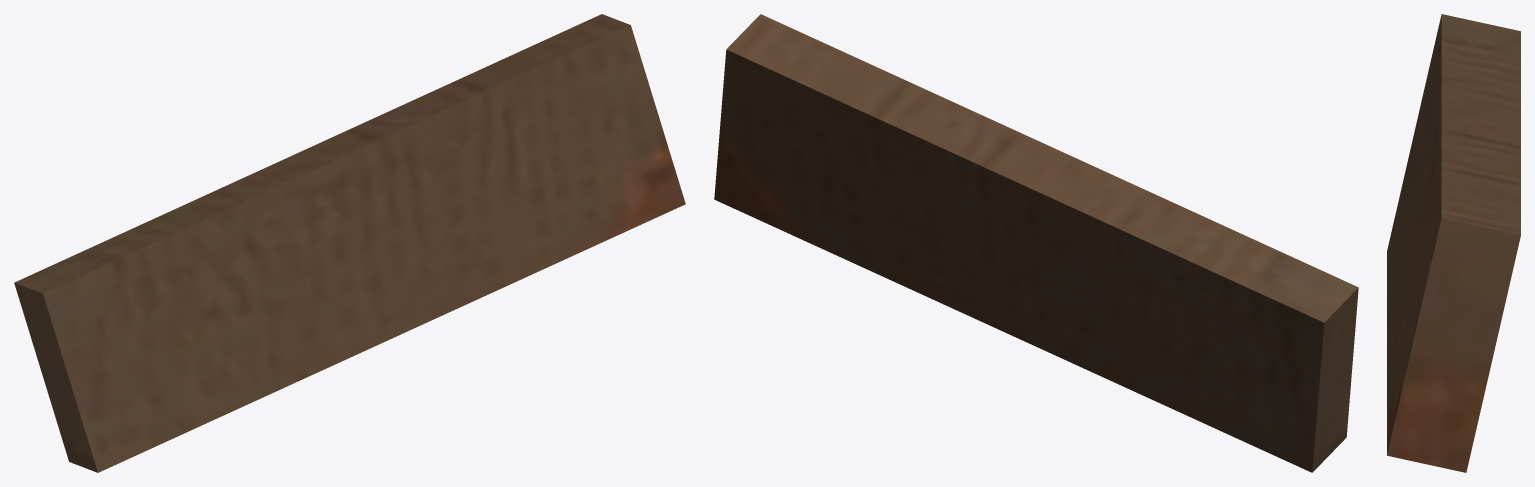
The model's file is fan_left__blade_4.glb.
The picture shows the model from 3 angles, left to right: view 1: azimuth 30°, elevation 25°; view 2: azimuth 150°, elevation 25°; view 3: azimuth 270°, elevation 25°; orthographic projection. The views are drawn at different scales.
Visible parts, largest first — view 1: geometry_0; view 2: geometry_0; view 3: geometry_0.
Part boxes in pixels (x1,y1,x2,y2): geometry_0: [14, 14, 685, 472]; geometry_0: [714, 14, 1358, 472]; geometry_0: [1387, 14, 1520, 472].
Size of the model in its own units: 0.0291 by 0.0138 by 0.00428.
1 material, 1 textured.
